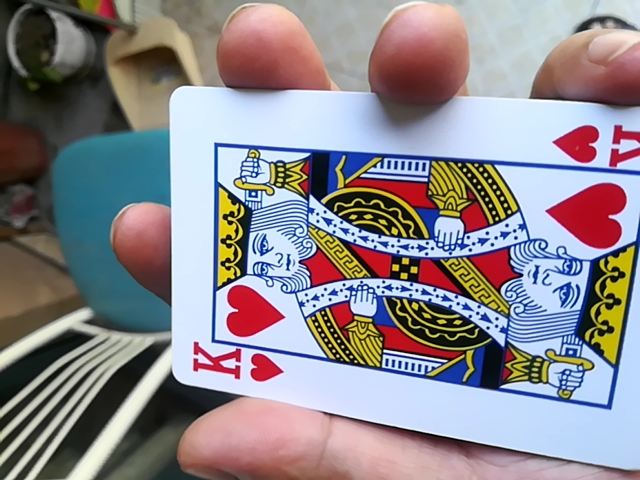hx k: (151, 78, 639, 468)
